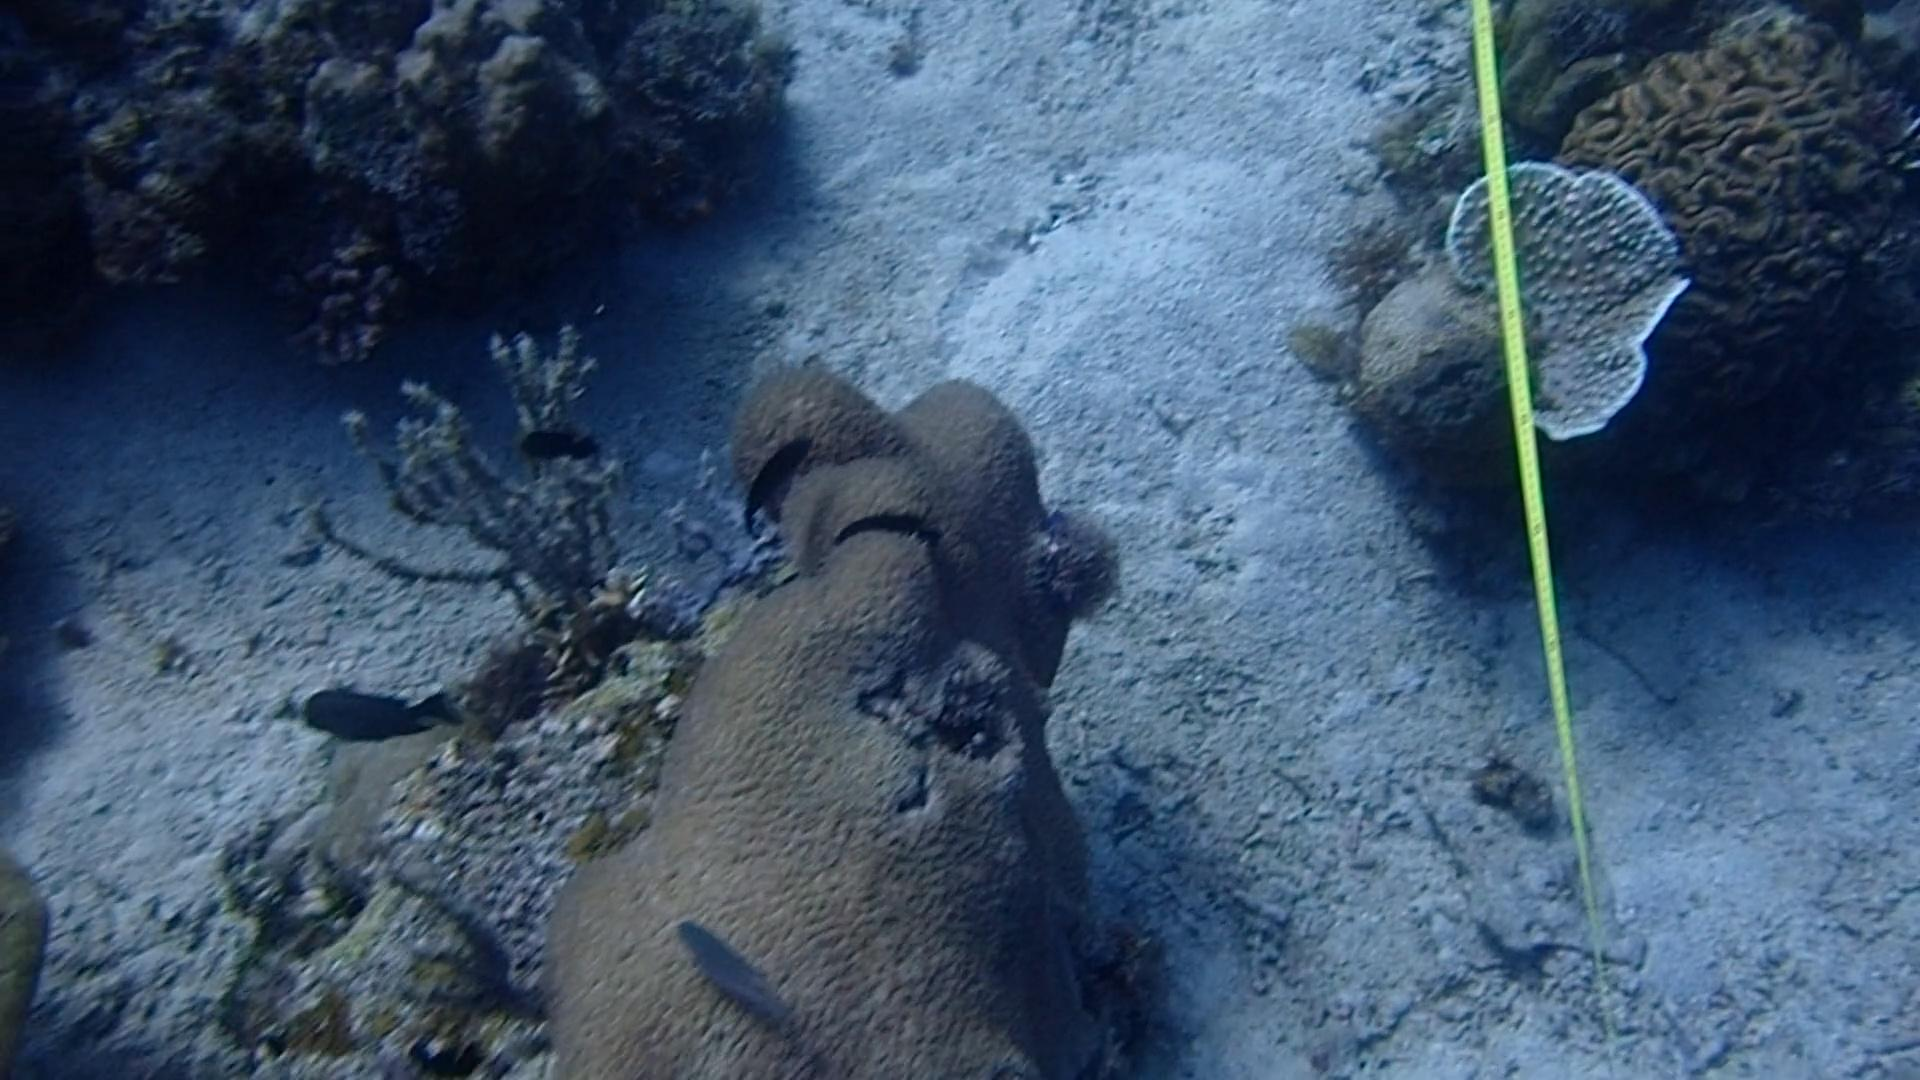Big Dark Blue Fish: (268, 665, 469, 757)
Dark Fish: (823, 488, 957, 568), (721, 431, 816, 512), (502, 409, 609, 480)
Light Fish: (665, 915, 799, 1031)
